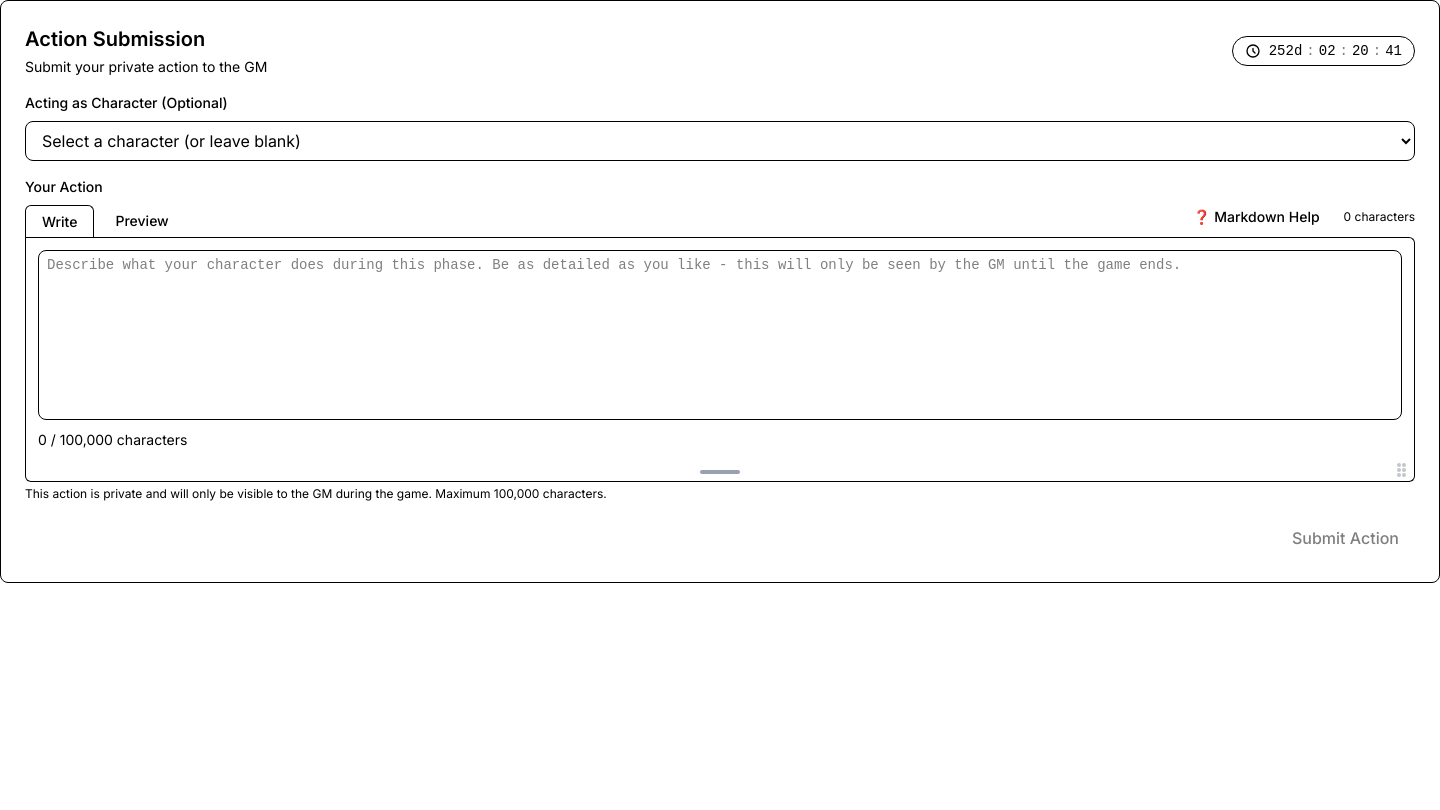
Test: ActionSubmission › Action Form › enables submit button when content is provided
The width and height of the screenshot is (1440, 810).
Type "Test action" into the text box at coordinates (720, 335), box [38,250,1402,420]
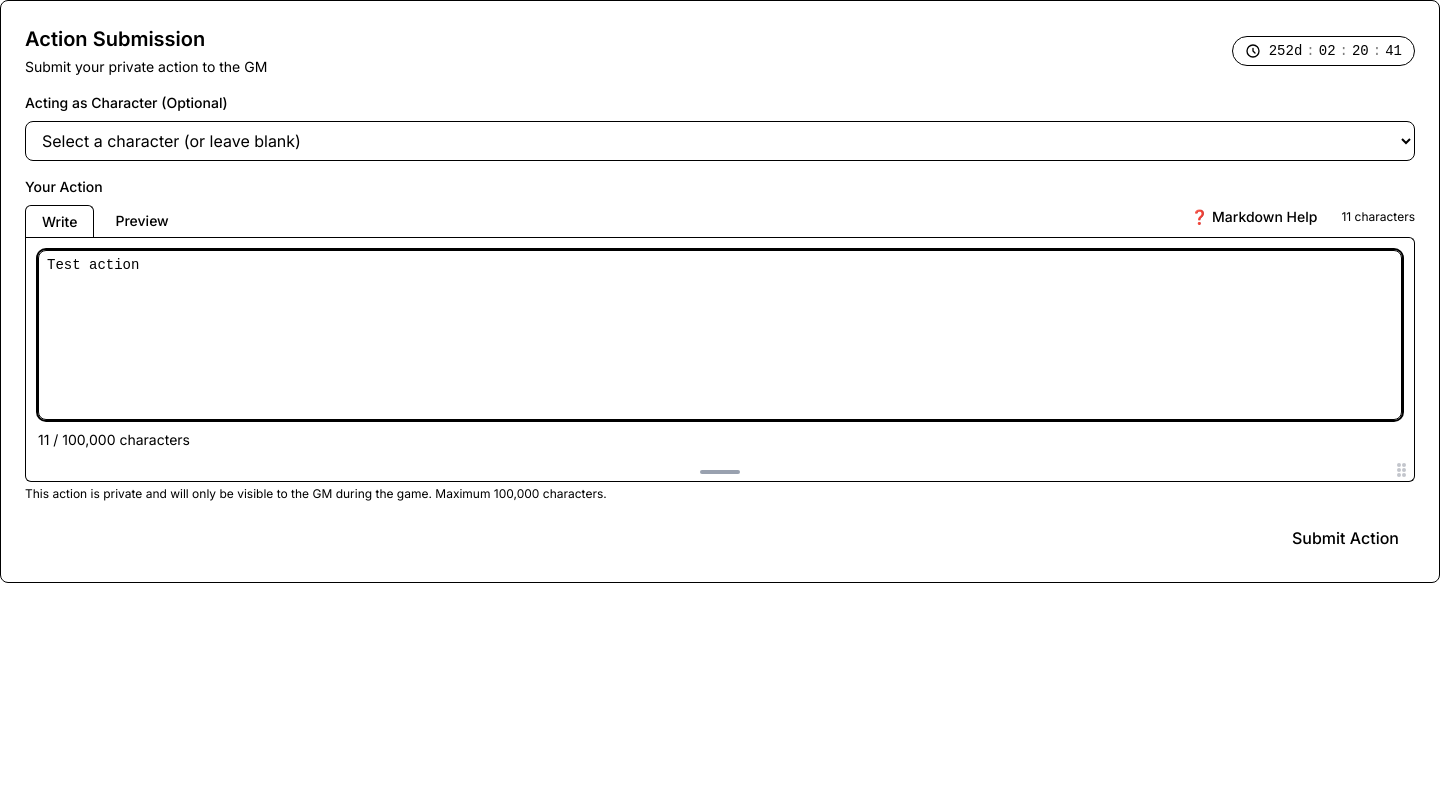
Check: the button "Submit Action" is enabled, box [1276,518,1415,558]
